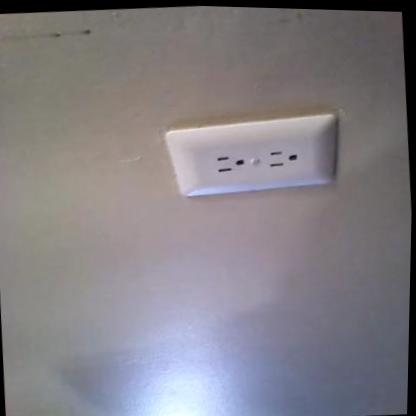OUTLET: (162, 113, 336, 198)
